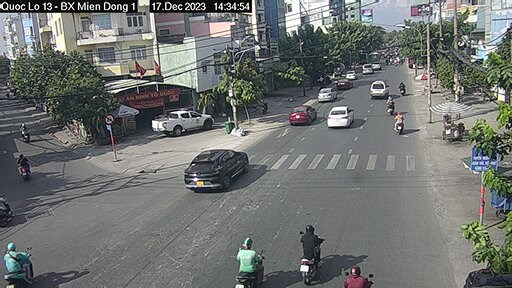car: (183, 148, 250, 194), (150, 108, 216, 137), (327, 103, 358, 130), (284, 104, 320, 127), (368, 78, 392, 100), (318, 87, 338, 101), (336, 78, 354, 91), (360, 62, 375, 75), (344, 70, 359, 81)
motorbike: (1, 243, 43, 288), (295, 226, 326, 283), (235, 237, 269, 286), (395, 112, 409, 137)
